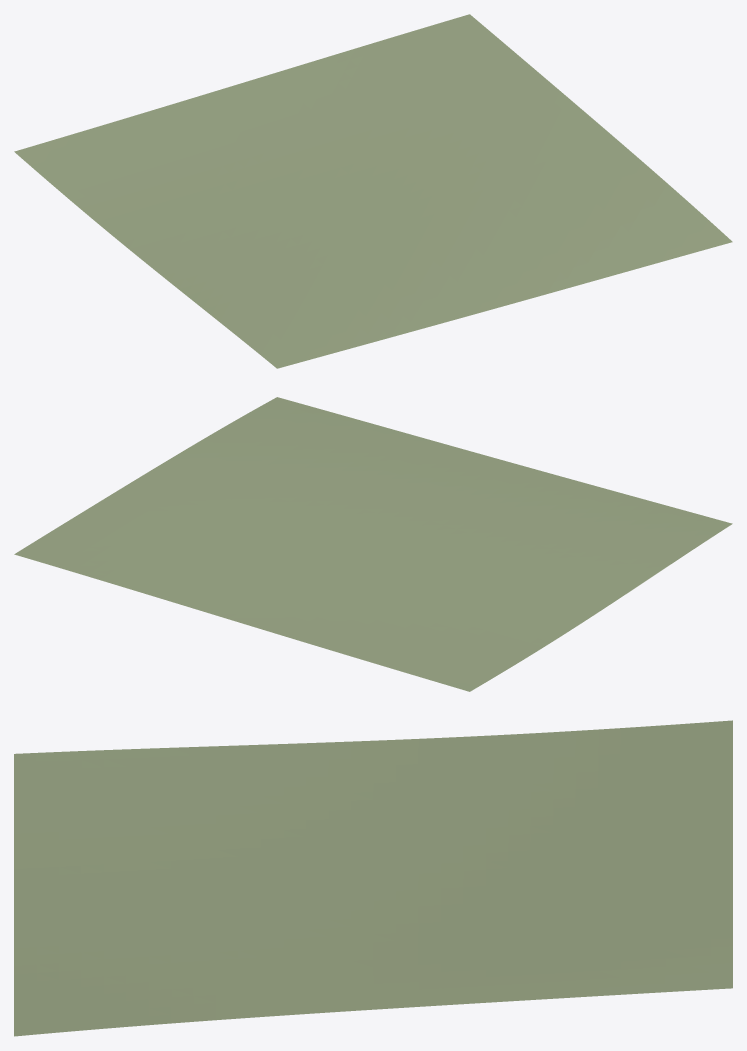
File: desert-25-9.glb
3 renders of one model, top to bottom at view 1: azimuth 30°, elevation 25°; view 2: azimuth 150°, elevation 25°; view 3: azimuth 270°, elevation 25°, orthographic. The views are drawn at different scales.
Visible parts, largest first — view 1: desert-25-9; view 2: desert-25-9; view 3: desert-25-9.
Part boxes in pixels (bbox=[...]): desert-25-9: bbox=[14, 14, 732, 368]; desert-25-9: bbox=[14, 397, 732, 691]; desert-25-9: bbox=[14, 720, 732, 1036].
Size of the model in its own units: 512 by 54.5 by 512.
